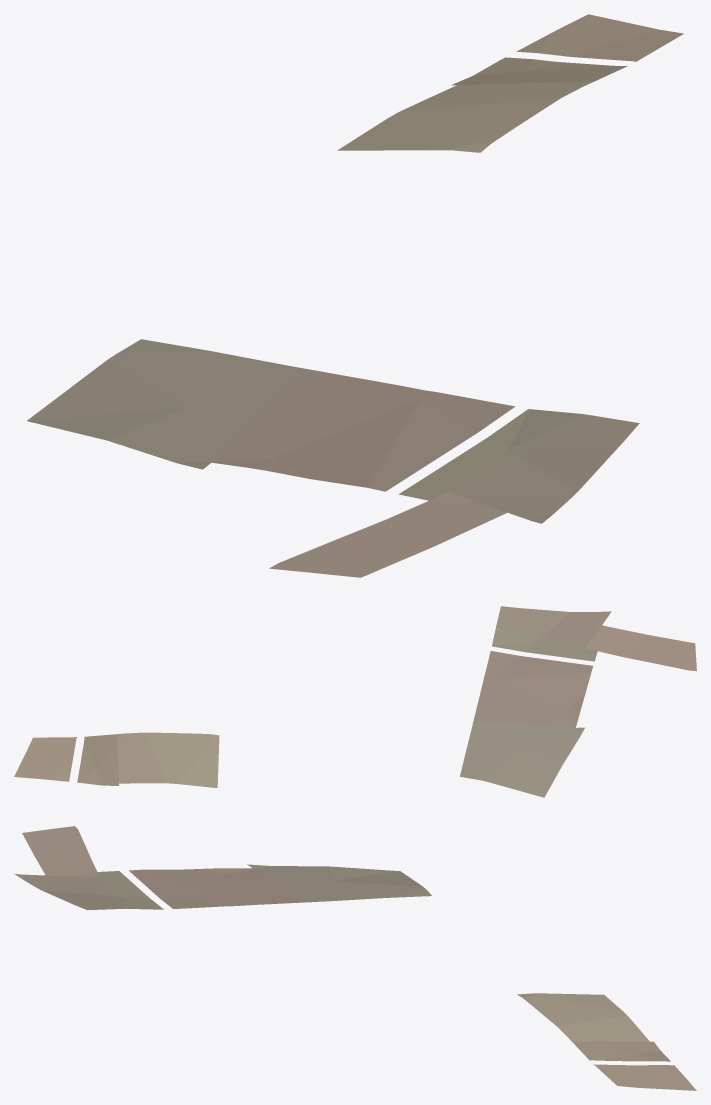
Rendered from farm_-1_7_soil.glb.
The picture shows the model from 3 angles, top to bottom: view 1: azimuth 30°, elevation 25°; view 2: azimuth 150°, elevation 25°; view 3: azimuth 270°, elevation 25°; orthographic projection. The views are drawn at different scales.
Visible parts, largest first — view 1: geometry_0; view 2: geometry_0; view 3: geometry_0.
Boxes of the visible parts, x1,y1,x2,y2 form: geometry_0: [27, 14, 683, 577]; geometry_0: [14, 606, 696, 797]; geometry_0: [14, 826, 696, 1090].
Size of the model in its own units: 467 by 53.8 by 533.
